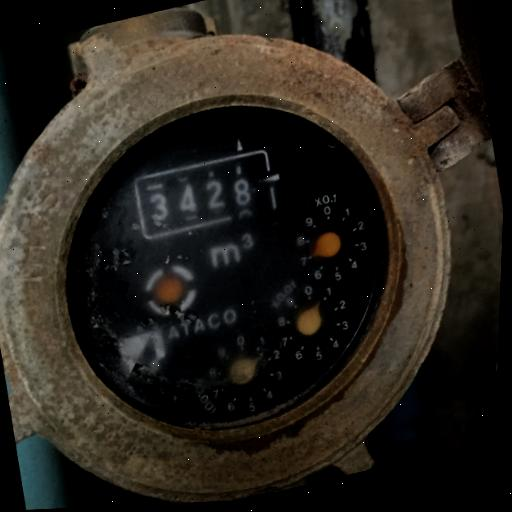2: (193, 160, 234, 223)
3: (136, 174, 180, 239)
4: (166, 167, 206, 230)
8: (220, 153, 267, 222)
border_water_meter_number: (130, 146, 280, 244)
